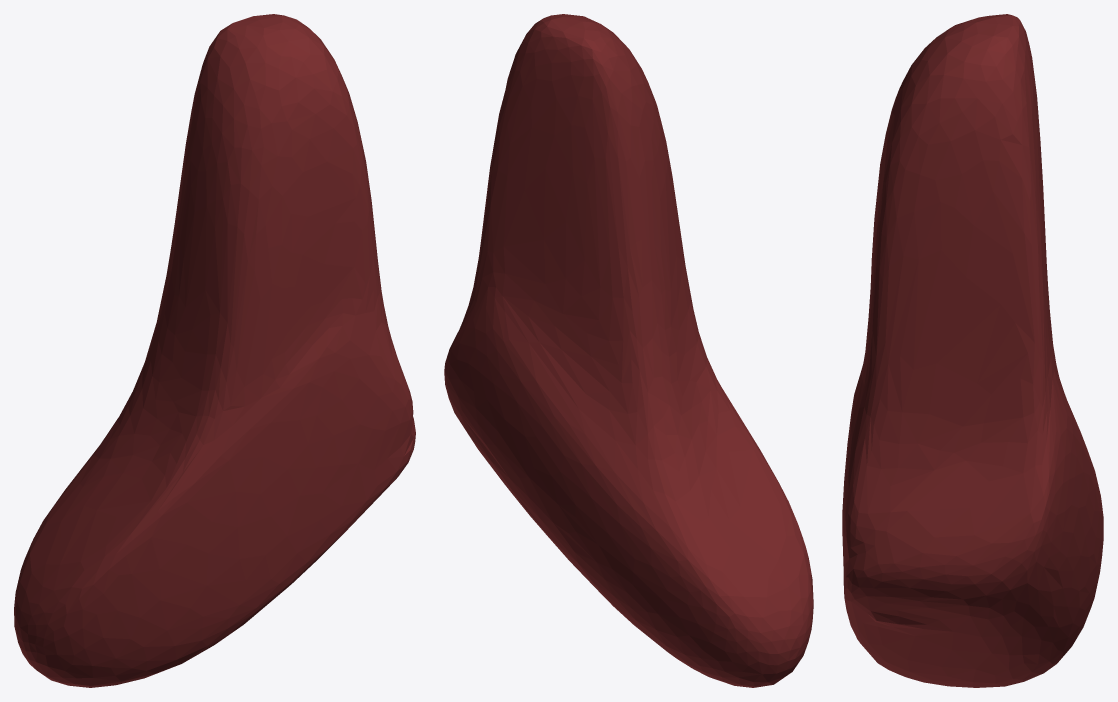
3 views of the same model, side by side, from view 1: azimuth 30°, elevation 25°; view 2: azimuth 150°, elevation 25°; view 3: azimuth 270°, elevation 25° (orthographic). The views are drawn at different scales.
Parts seen in each view (by area): view 1: 480_Cube.1948; view 2: 480_Cube.1948; view 3: 480_Cube.1948.
Part boxes in pixels (x1,y1,x2,y2): 480_Cube.1948: (14, 14, 415, 687); 480_Cube.1948: (444, 14, 813, 687); 480_Cube.1948: (842, 14, 1103, 687).
Size of the model in its own units: 9.71 by 16.21 by 5.09.
